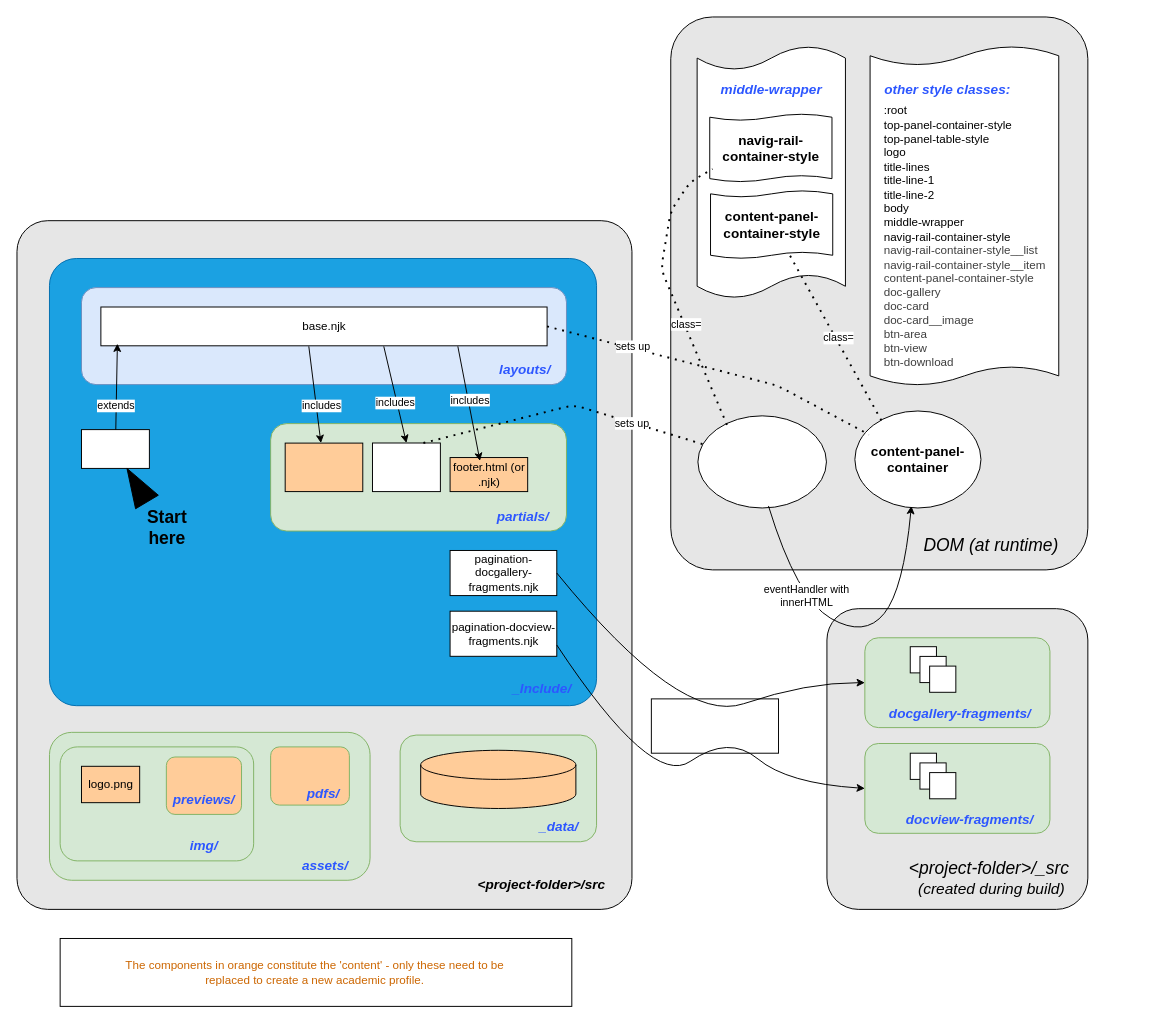
This 1171x1023 diagram has some shape labels left out. Each missing label, with the centre of its shape:
contentConfig.json (controls category order): the point at 498,778
header.html (or .njk): the point at 323,467
index.html: the point at 115,448
menuItemsWithDocs global array from js with same name: the point at 714,725
navig-rail-container: the point at 761,461
sidebar.html (or .njk): the point at 406,467
